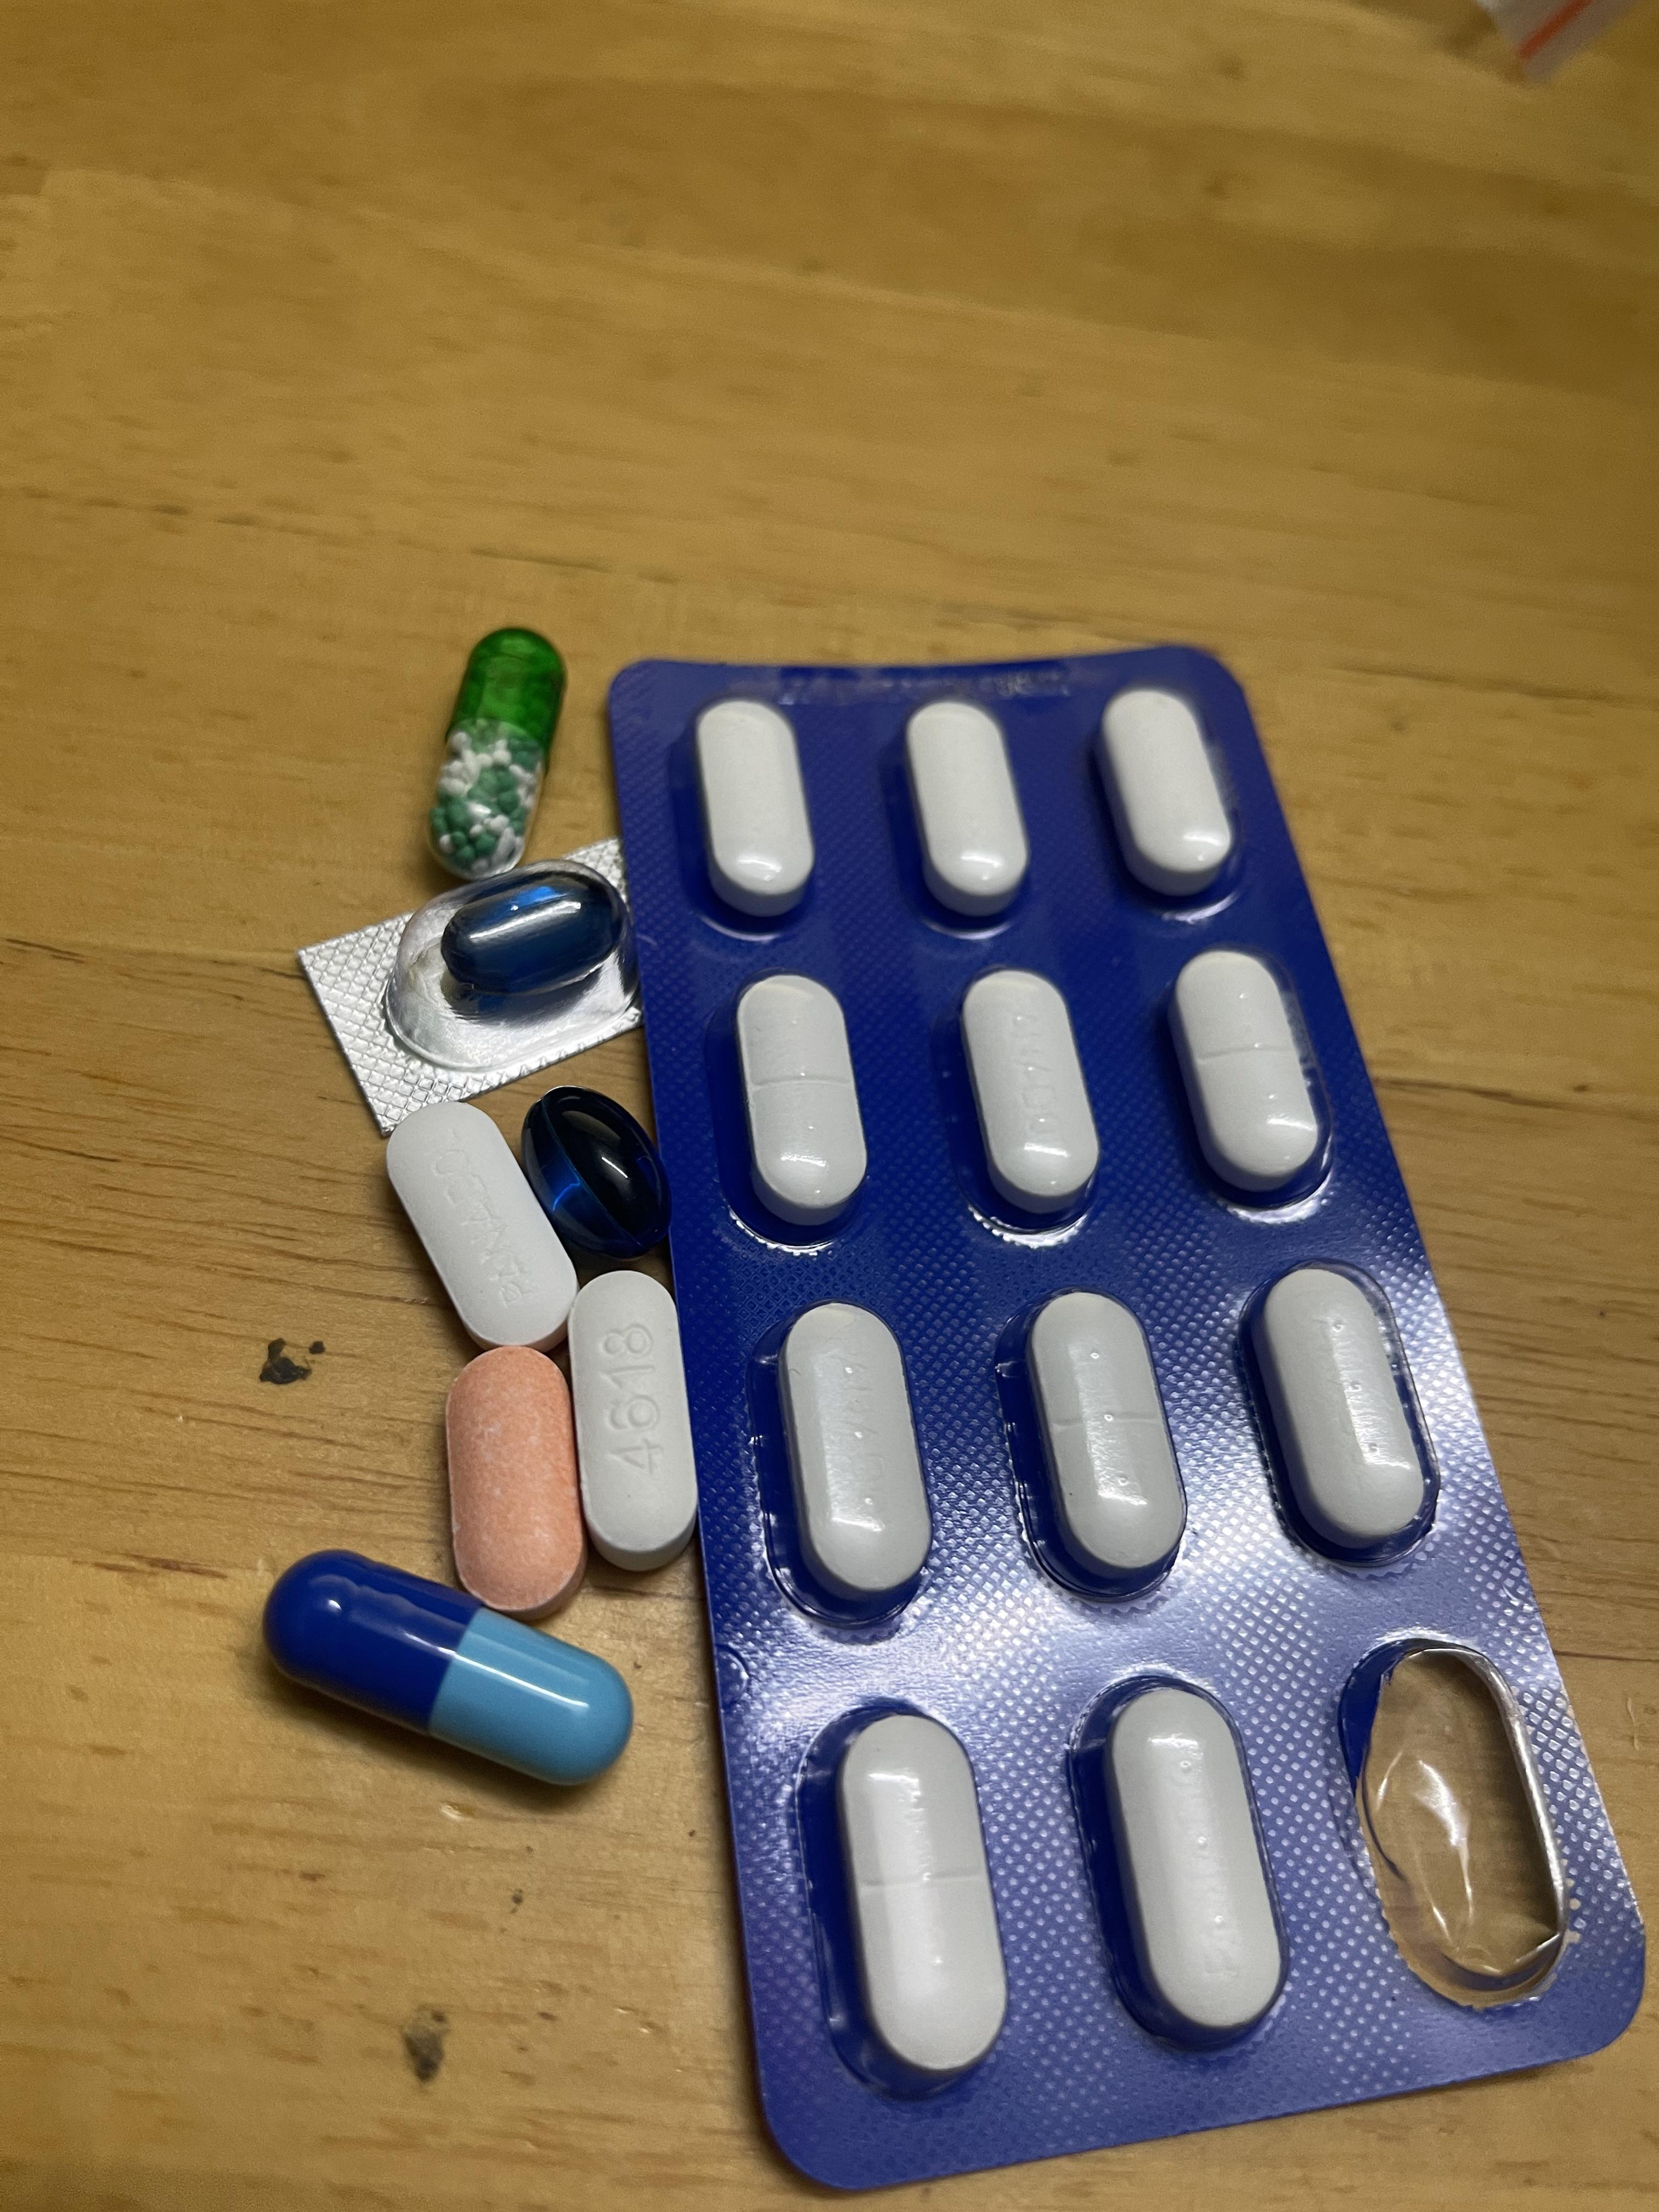Lincomyxin_500mg: (521, 1087, 676, 1259), (441, 869, 622, 996)
Loratadine_10mg: (446, 1352, 584, 1609)
Paracetamol_350mg: (1077, 1674, 1290, 2054), (814, 1700, 1011, 2090), (1248, 1254, 1439, 1573), (1007, 1287, 1190, 1606), (770, 1298, 934, 1615), (385, 1101, 579, 1353), (1168, 951, 1324, 1202), (960, 968, 1100, 1221), (735, 975, 870, 1226), (1098, 686, 1237, 897), (904, 702, 1033, 920), (695, 698, 817, 918)
Paracetamol_500mg: (565, 1273, 697, 1569)
Paracetamol_650mg: (430, 631, 563, 871)
pill: (279, 1569, 622, 1784)
